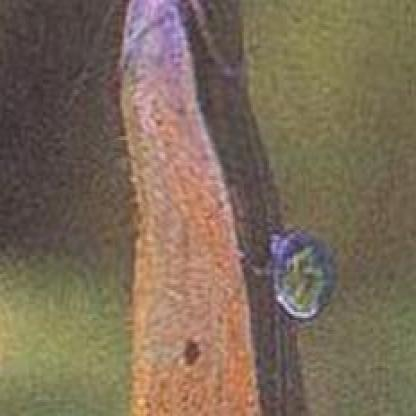stem-borer: (115, 0, 262, 416)
